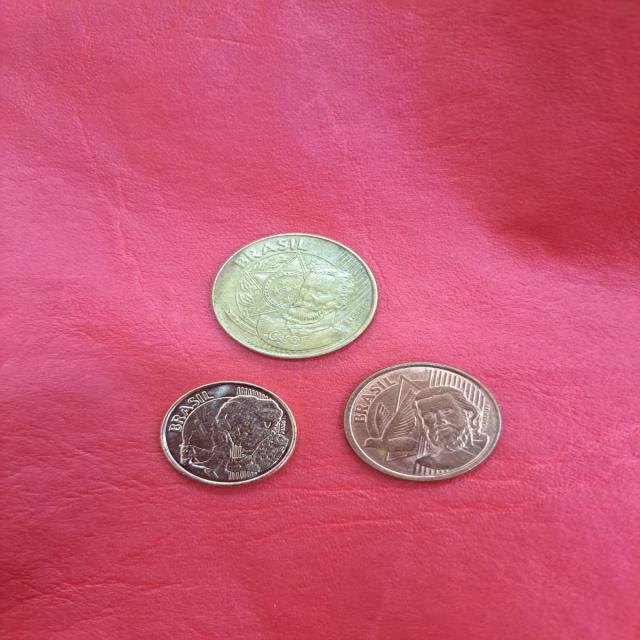25 cents: (200, 230, 392, 364)
